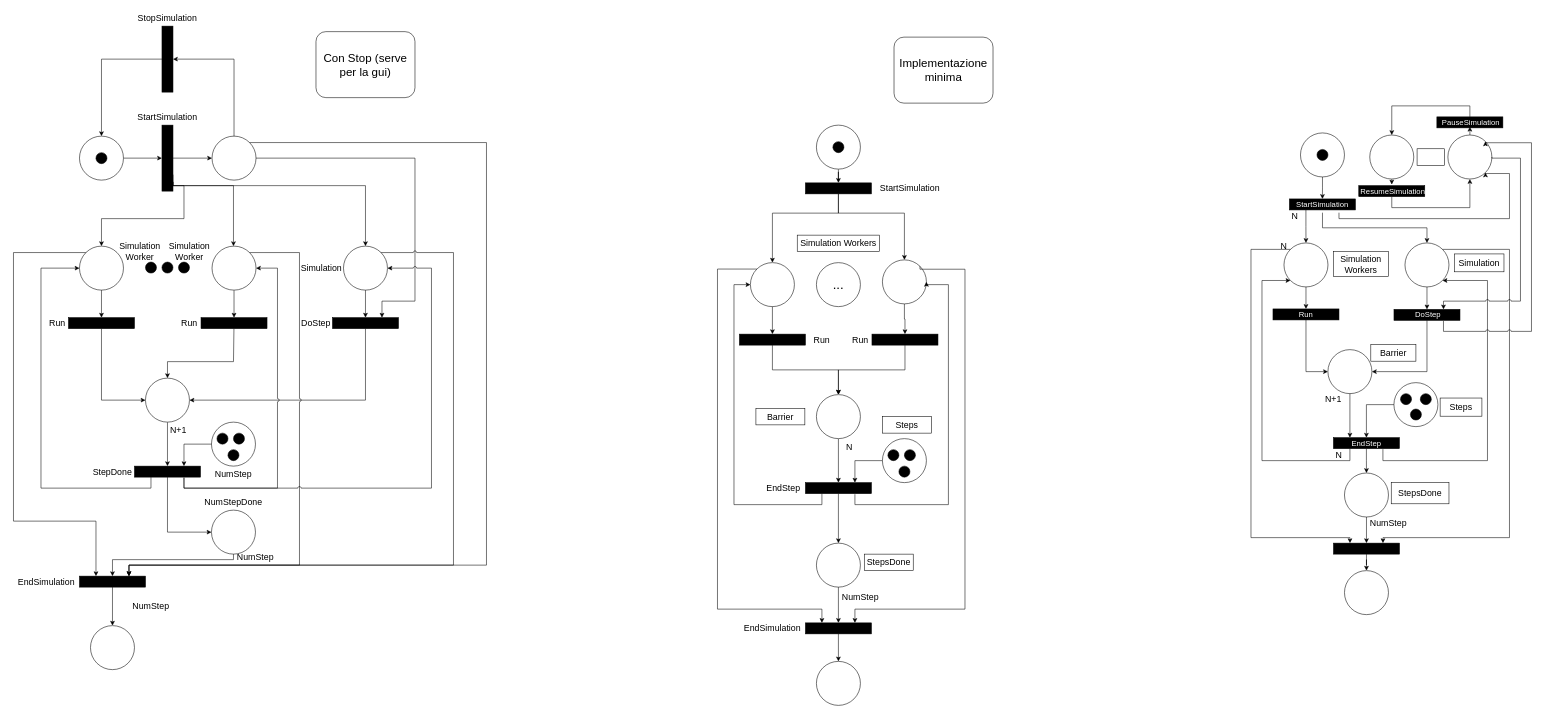
The diagram is 1546 pixels wide and 715 high, and some of its shapes have lost their labels. The shapes that lost their labels are listed below. From the top down, each one's centre as x and y in pixels, then its label:
the point at 1431,156: Flag
the point at 1366,548: EndSimulaiton
